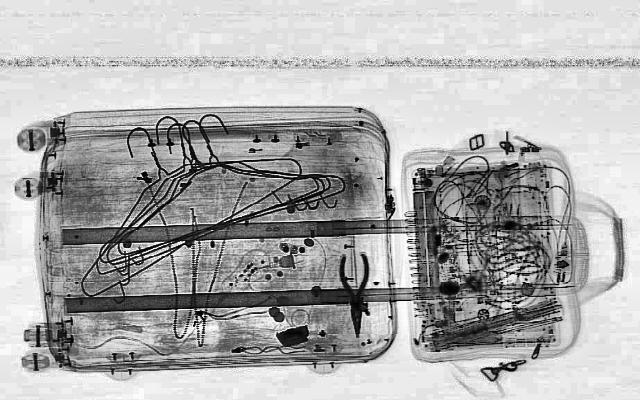Pliers: (336, 253, 374, 338)
